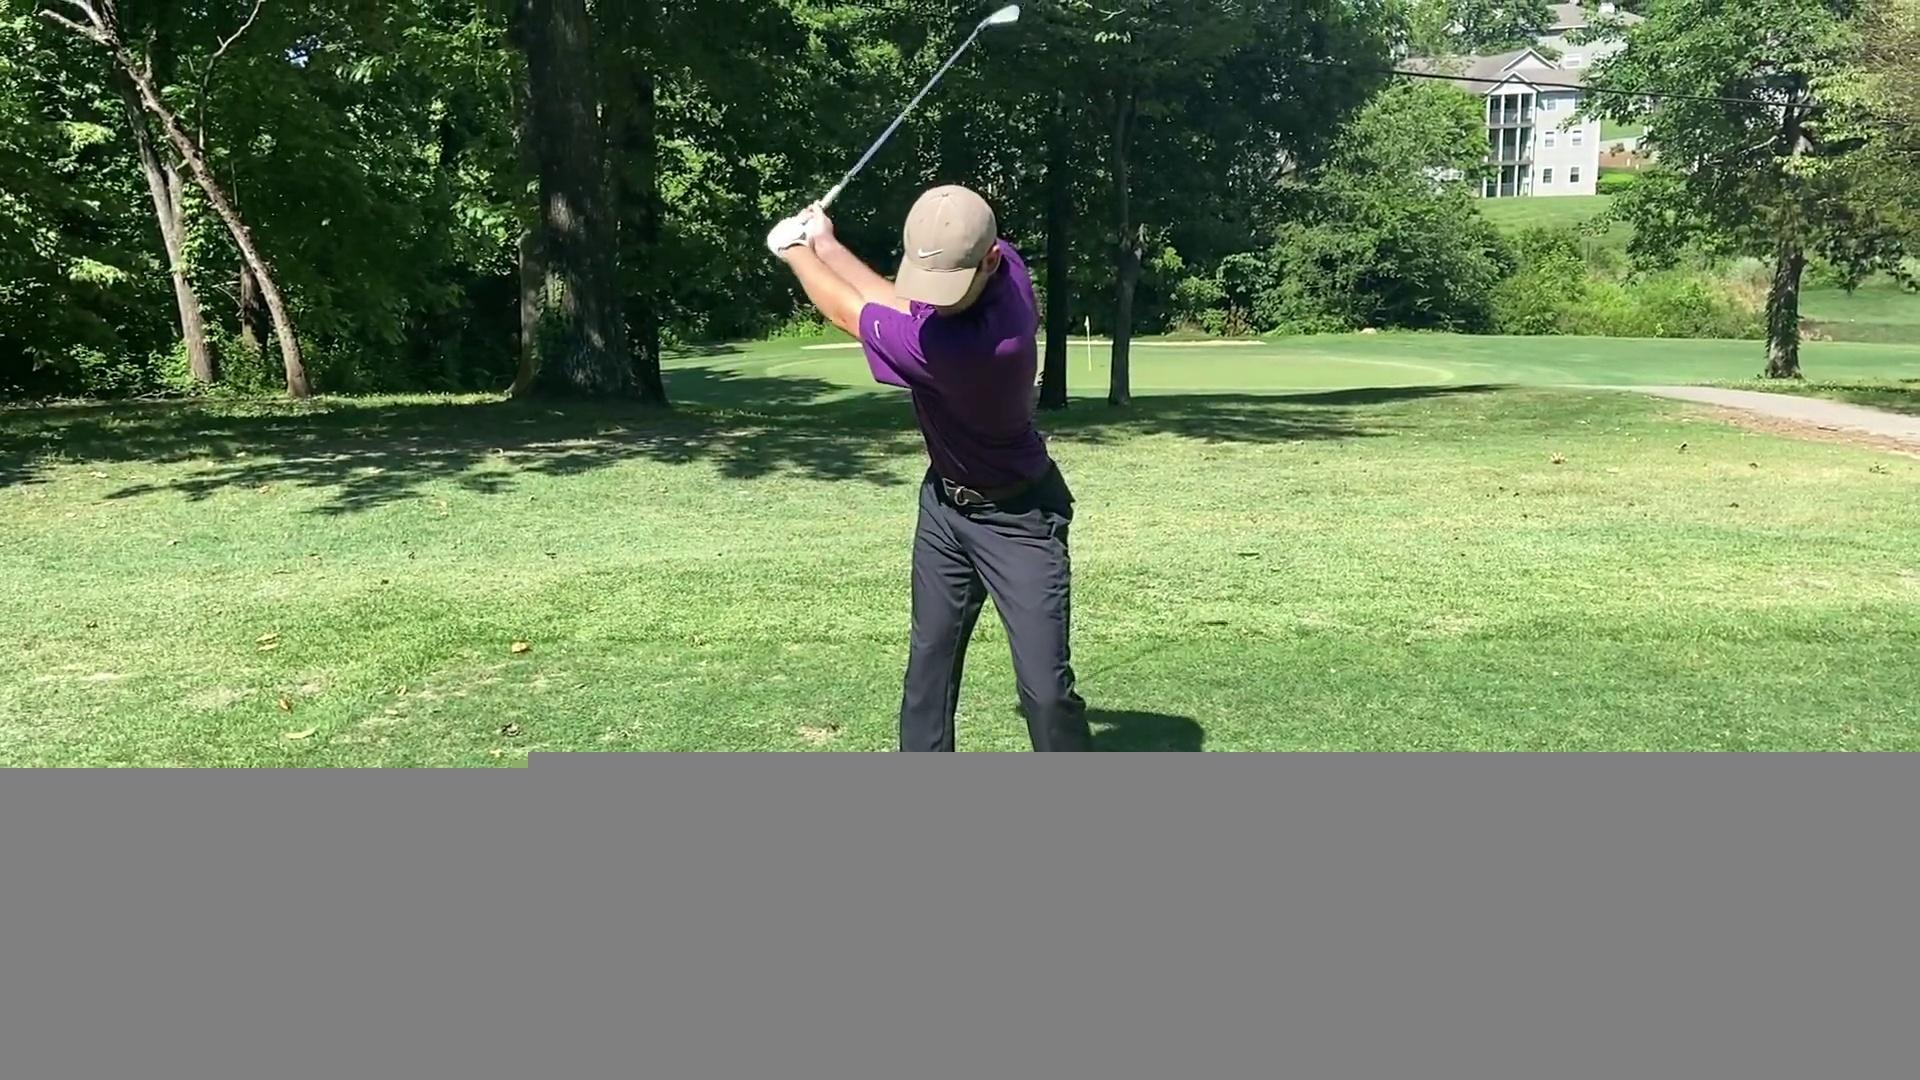ClubHead: (973, 4, 1021, 36)
GolfBall: (1005, 1015, 1030, 1044)
